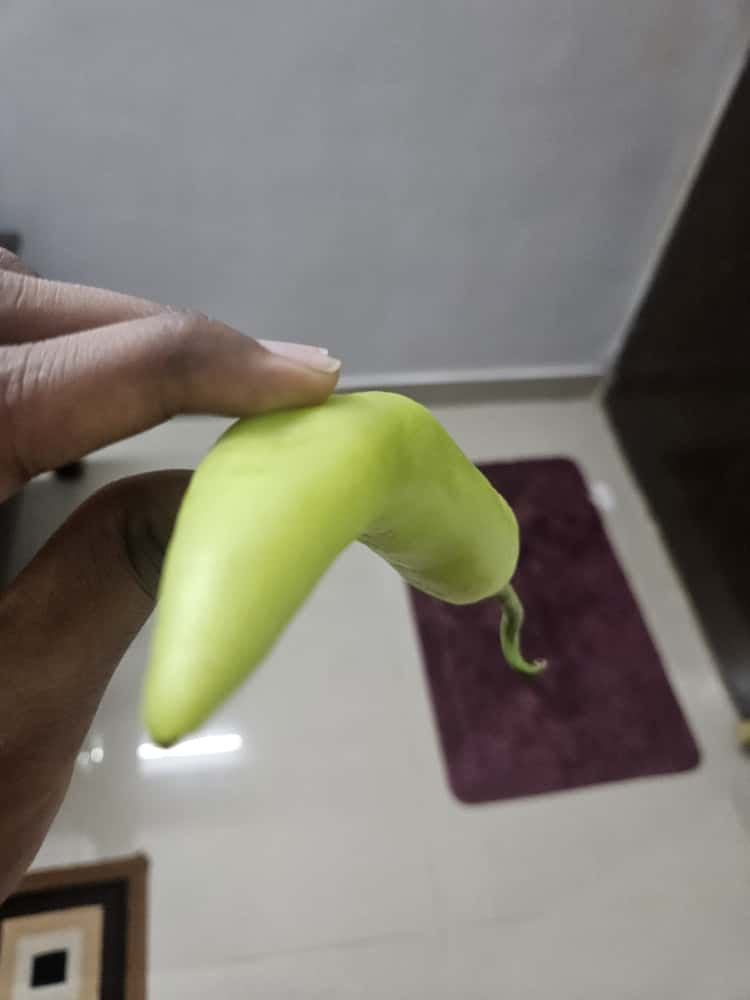wet: (100, 379, 575, 762)
